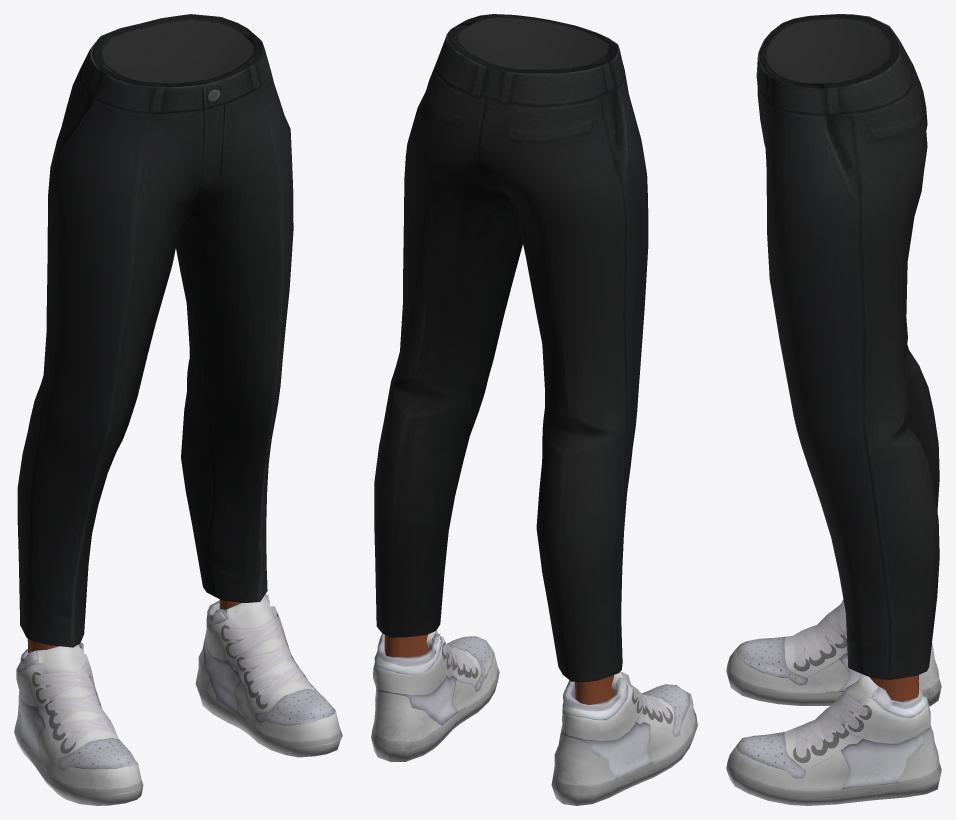
3 renders of one model, left to right at view 1: azimuth 30°, elevation 25°; view 2: azimuth 150°, elevation 25°; view 3: azimuth 270°, elevation 25°, orthographic.
Visible parts, largest first — view 1: Wolf3D_Outfit_Bottom.001, Wolf3D_Outfit_Footwear.001; view 2: Wolf3D_Outfit_Bottom.001, Wolf3D_Outfit_Footwear.001, Wolf3D_Body; view 3: Wolf3D_Outfit_Bottom.001, Wolf3D_Outfit_Footwear.001, Wolf3D_Body.
Part boxes in pixels (left/top/right/bottom): Wolf3D_Outfit_Bottom.001: left=17, top=14, right=293, bottom=647; Wolf3D_Outfit_Footwear.001: left=14, top=594, right=342, bottom=805; Wolf3D_Outfit_Bottom.001: left=374, top=14, right=648, bottom=682; Wolf3D_Outfit_Footwear.001: left=371, top=630, right=697, bottom=805; Wolf3D_Body: left=384, top=634, right=614, bottom=704; Wolf3D_Outfit_Bottom.001: left=756, top=14, right=939, bottom=679; Wolf3D_Outfit_Footwear.001: left=726, top=599, right=941, bottom=805; Wolf3D_Body: left=869, top=675, right=918, bottom=701.
Size of the model in its own units: 4.57 by 11.42 by 3.2.
3 materials, 2 textured.
